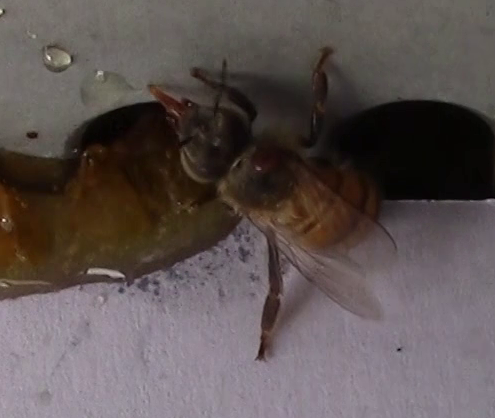Varroa destructor: (244, 150, 283, 178)
